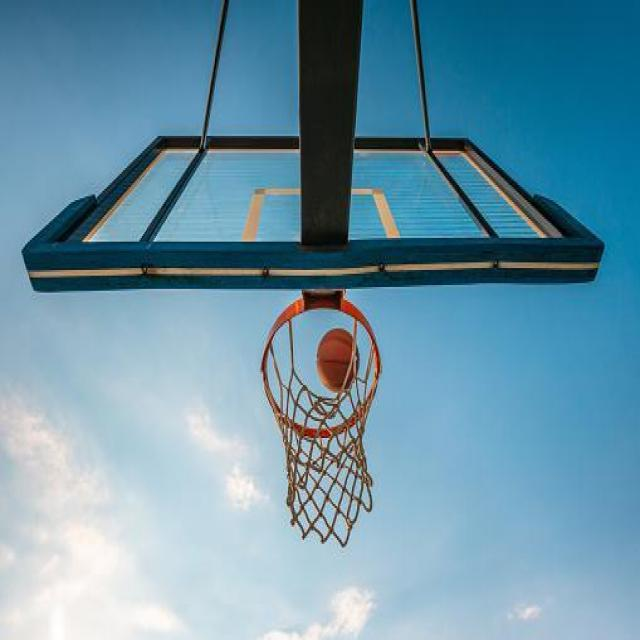Basketball: (317, 328, 360, 392)
hoop: (262, 296, 382, 548)
